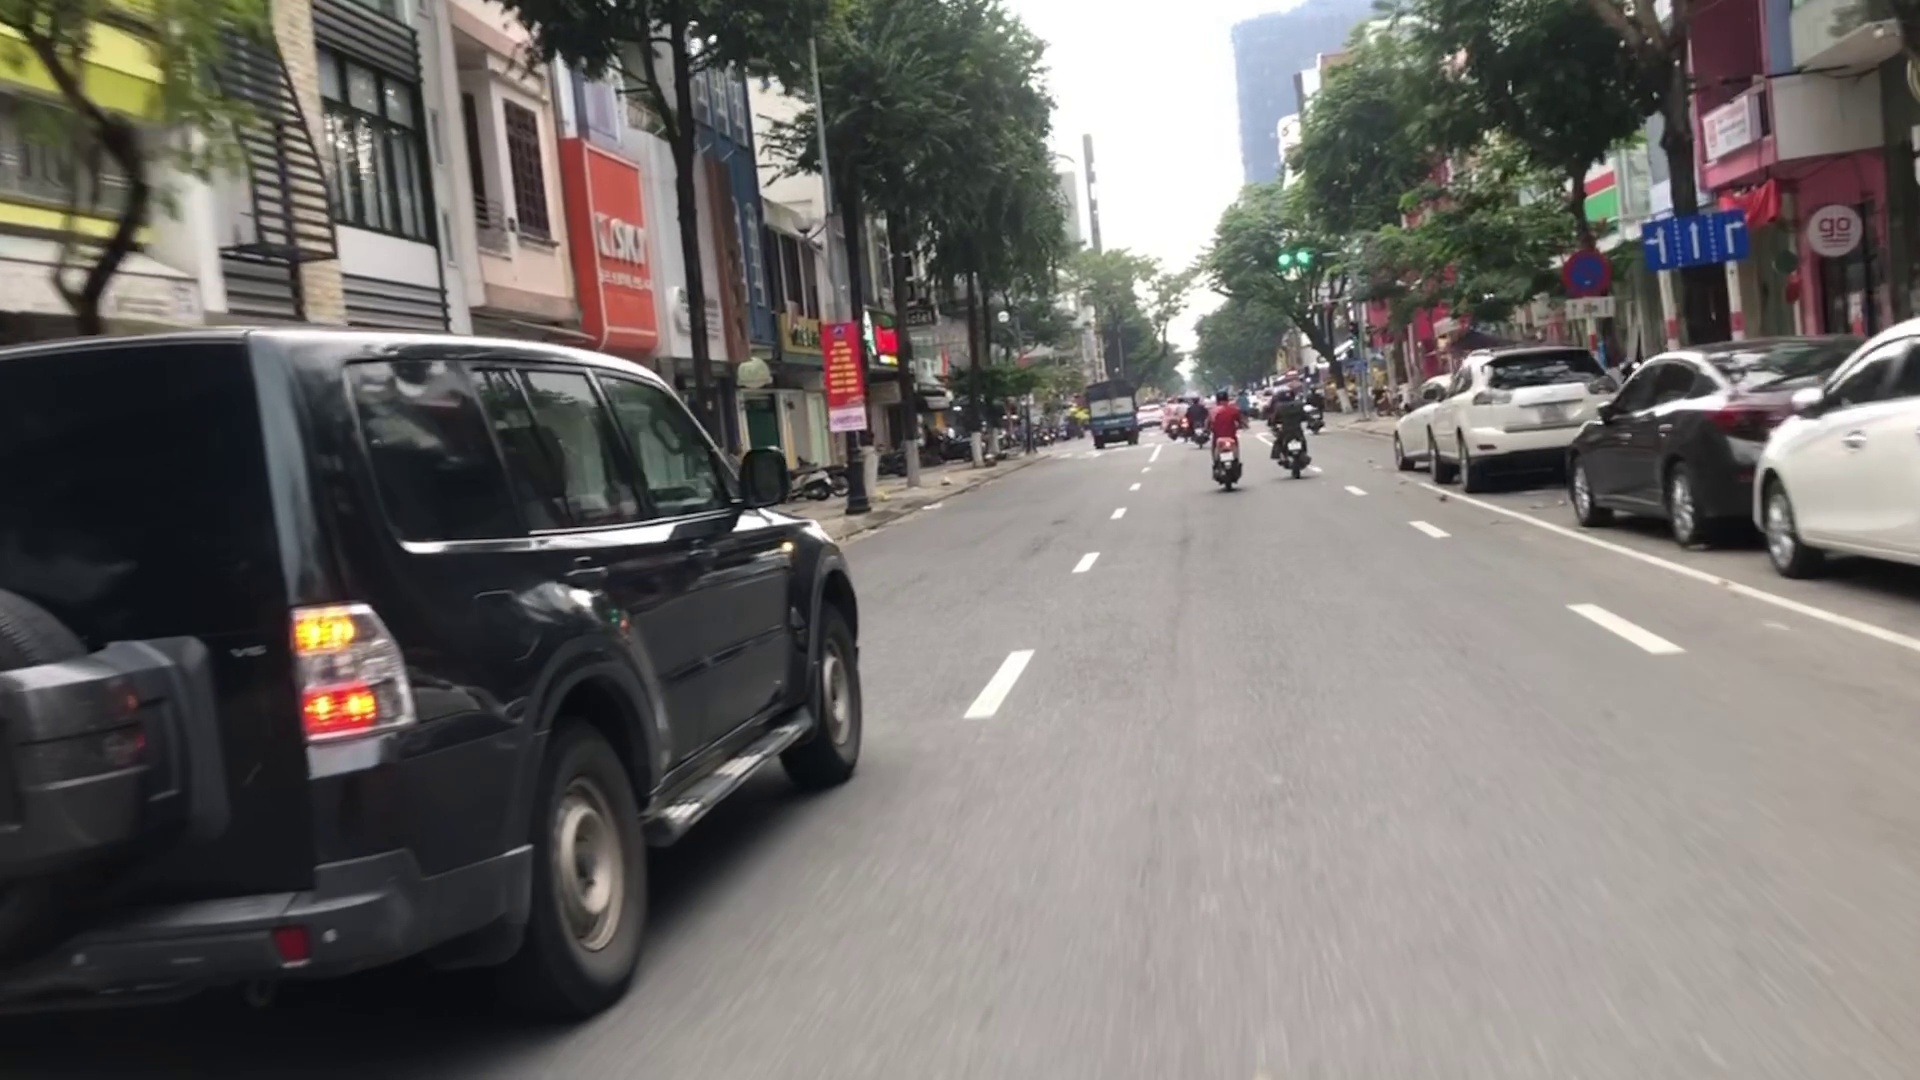Bien khac: (1639, 210, 1751, 270)
Cam do xe: (1560, 247, 1610, 295)
